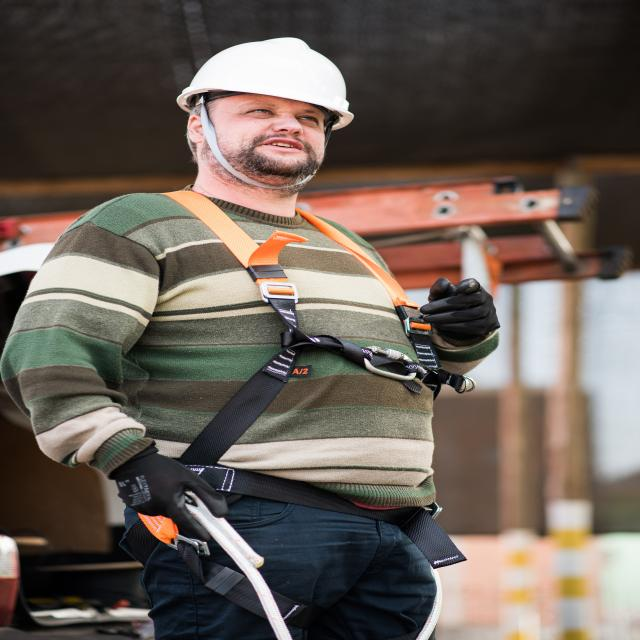capacete: (170, 33, 358, 134)
corda de vida: (109, 182, 470, 640)
luva: (104, 436, 231, 544), (417, 276, 504, 351)
